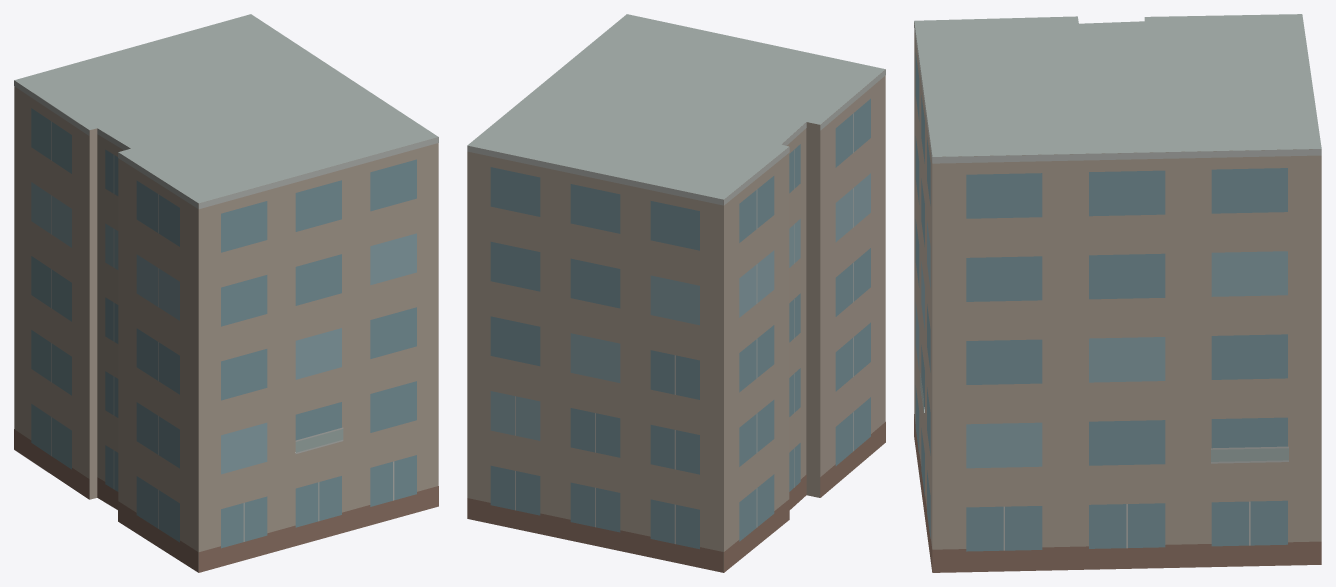
Rendered from survey-upis-32644000.glb.
3 views of the same model, side by side, from view 1: azimuth 30°, elevation 25°; view 2: azimuth 150°, elevation 25°; view 3: azimuth 270°, elevation 25° (orthographic). The views are drawn at different scales.
Visible parts, largest first — view 1: survey-upis-32644000.tmp; view 2: survey-upis-32644000.tmp; view 3: survey-upis-32644000.tmp.
Part boxes in pixels (x1,y1,x2,y2): survey-upis-32644000.tmp: (14, 14, 438, 572); survey-upis-32644000.tmp: (467, 14, 885, 572); survey-upis-32644000.tmp: (914, 14, 1321, 572).
Bounding box in the file's own units: 11.25 × 15.25 × 13.55.
